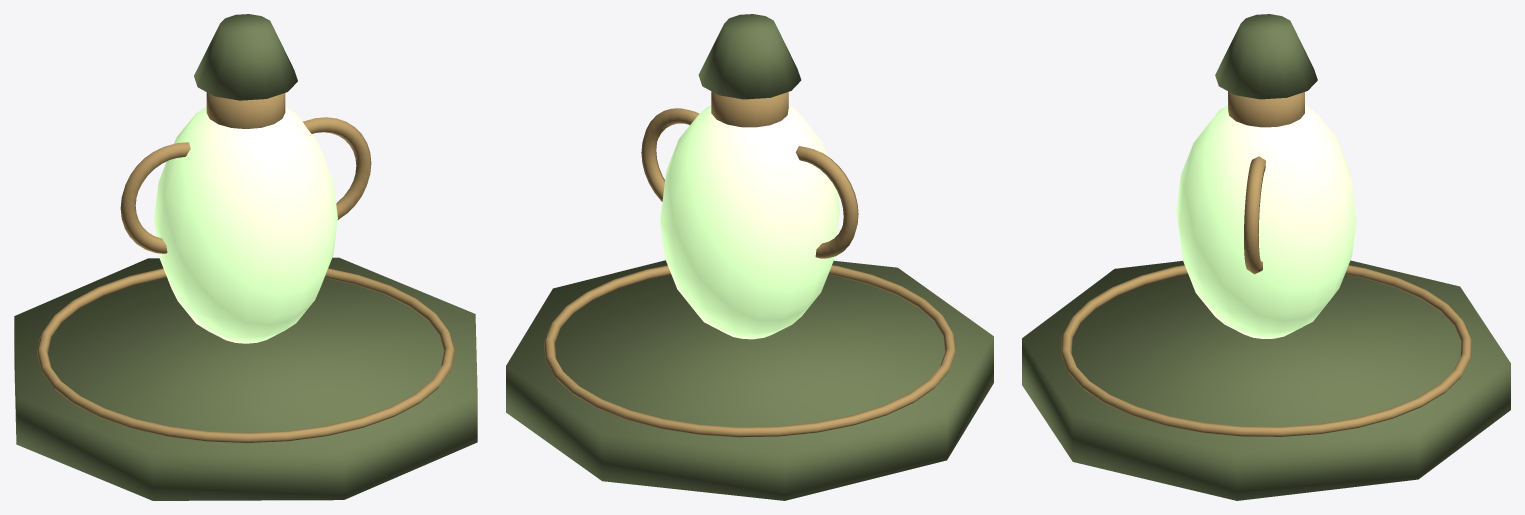
The picture shows the model from 3 angles, left to right: view 1: azimuth 30°, elevation 25°; view 2: azimuth 150°, elevation 25°; view 3: azimuth 270°, elevation 25°; orthographic projection.
Parts seen in each view (by area): view 1: Hexagonal plinth, Relic vessel, Inlaid rim, Stopper, Relic handle, Neck, Relic handle.001; view 2: Hexagonal plinth, Relic vessel, Inlaid rim, Stopper, Relic handle, Neck, Relic handle.001; view 3: Hexagonal plinth, Relic vessel, Inlaid rim, Stopper, Neck, Relic handle.001.
Boxes of the visible parts, x1=… form: Hexagonal plinth: x1=14, y1=257, x2=477, y2=500; Relic vessel: x1=154, y1=107, x2=337, y2=343; Inlaid rim: x1=37, y1=268, x2=454, y2=442; Stopper: x1=194, y1=14, x2=297, y2=100; Relic handle: x1=120, y1=142, x2=190, y2=253; Neck: x1=206, y1=92, x2=285, y2=128; Relic handle.001: x1=303, y1=117, x2=371, y2=219; Hexagonal plinth: x1=506, y1=260, x2=993, y2=500; Relic vessel: x1=660, y1=105, x2=839, y2=339; Inlaid rim: x1=544, y1=265, x2=955, y2=437; Stopper: x1=698, y1=14, x2=801, y2=99; Relic handle: x1=795, y1=146, x2=858, y2=258; Neck: x1=711, y1=91, x2=788, y2=127; Relic handle.001: x1=641, y1=108, x2=699, y2=201; Hexagonal plinth: x1=1022, y1=260, x2=1510, y2=500; Relic vessel: x1=1176, y1=105, x2=1356, y2=338; Inlaid rim: x1=1060, y1=265, x2=1472, y2=436; Stopper: x1=1215, y1=14, x2=1317, y2=99; Neck: x1=1228, y1=91, x2=1304, y2=127; Relic handle.001: x1=1244, y1=156, x2=1265, y2=274.
Size of the model in its own units: 1.51 by 1.27 by 1.51.
